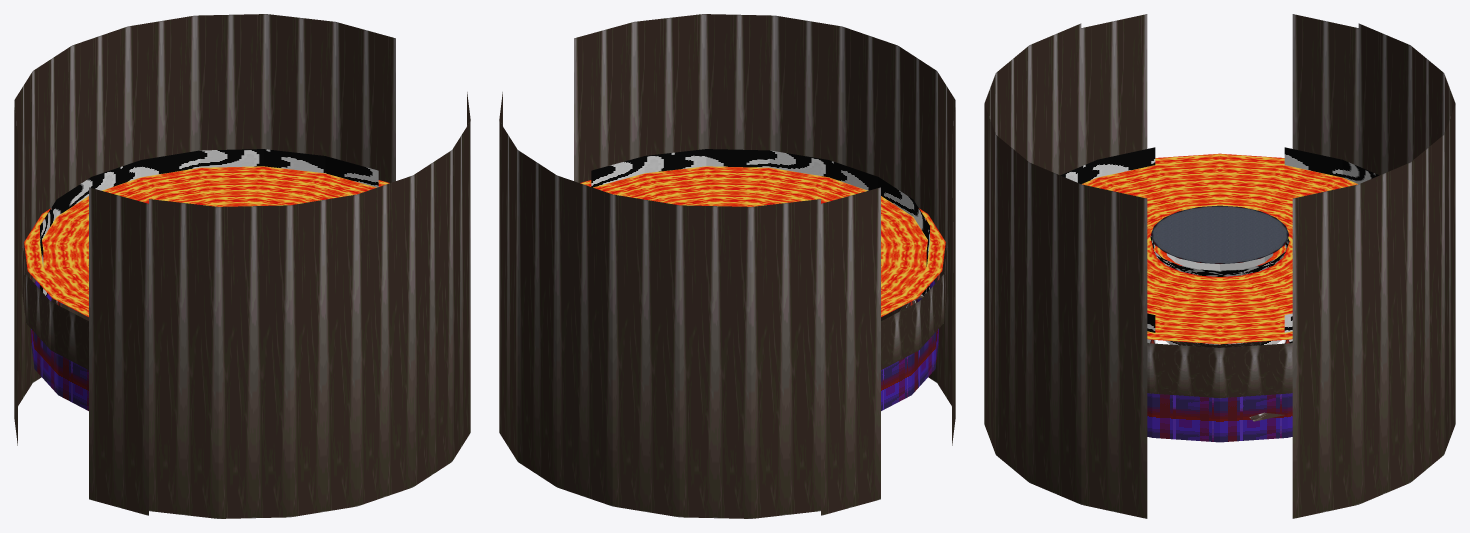
The picture shows the model from 3 angles, left to right: view 1: azimuth 30°, elevation 25°; view 2: azimuth 150°, elevation 25°; view 3: azimuth 270°, elevation 25°; orthographic projection. The views are drawn at different scales.
Visible parts, largest first — view 1: bosslevel; view 2: bosslevel; view 3: bosslevel.
Boxes of the visible parts, <box> form: bosslevel: <box>14,14,470,518</box>; bosslevel: <box>499,14,955,518</box>; bosslevel: <box>984,14,1455,518</box>.
Size of the model in its own units: 6533 by 5161 by 6776.
